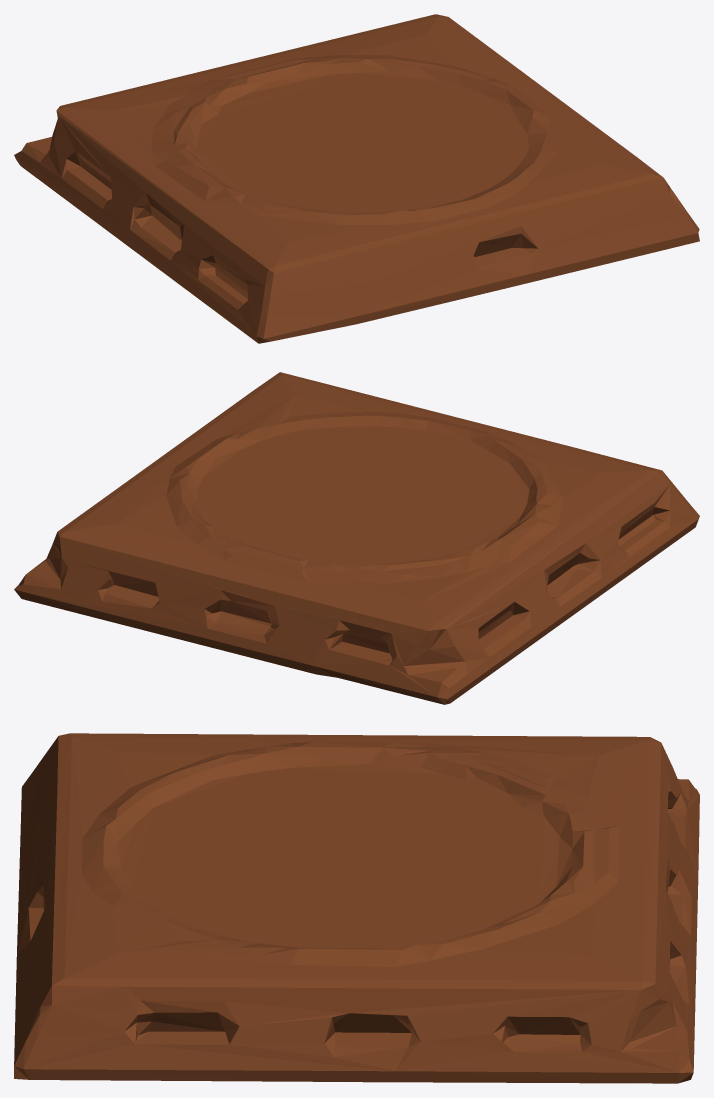
The picture shows the model from 3 angles, top to bottom: view 1: azimuth 30°, elevation 25°; view 2: azimuth 150°, elevation 25°; view 3: azimuth 270°, elevation 25°; orthographic projection. The views are drawn at different scales.
Visible parts, largest first — view 1: Object.1; view 2: Object.1; view 3: Object.1.
Boxes of the visible parts, x1=… form: Object.1: x1=14, y1=14, x2=699, y2=343; Object.1: x1=14, y1=372, x2=699, y2=704; Object.1: x1=14, y1=733, x2=699, y2=1083.
Bounding box in the file's own units: 3.28 × 0.5205 × 3.28.
